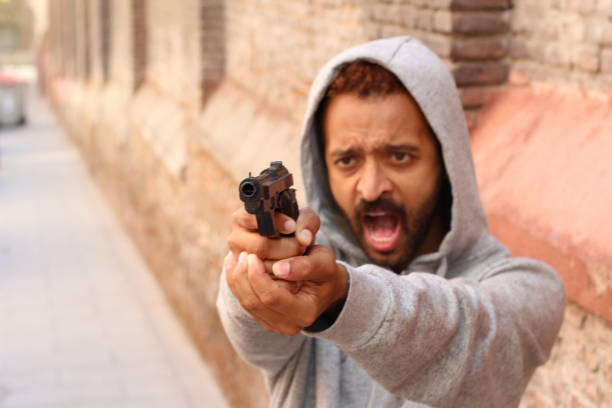gun: (238, 160, 301, 239)
